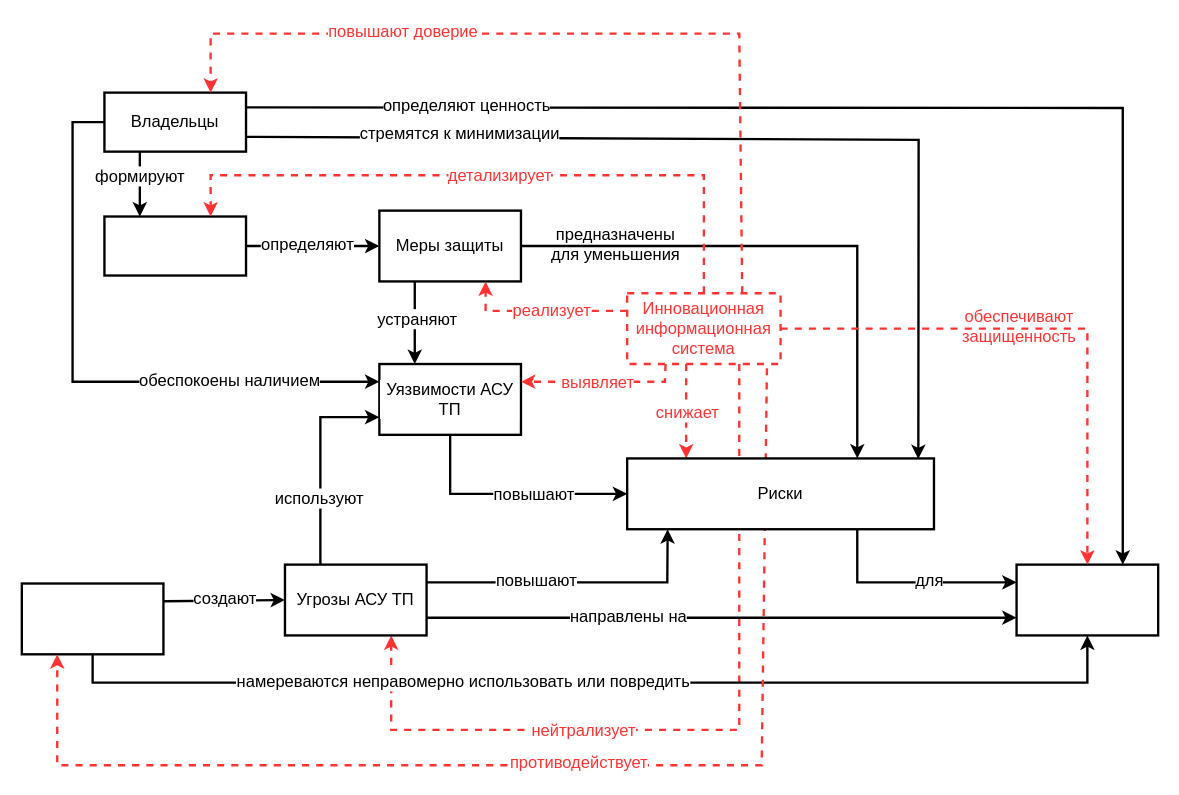
This 1179x795 diagram has some shape labels left out. Here are the shapes that lost their labels. From the top down, the box of each, then its label:
(103, 215, 247, 276): Требования
(20, 582, 164, 655): Агенты угроз
(1015, 563, 1159, 636): Объекты управления
